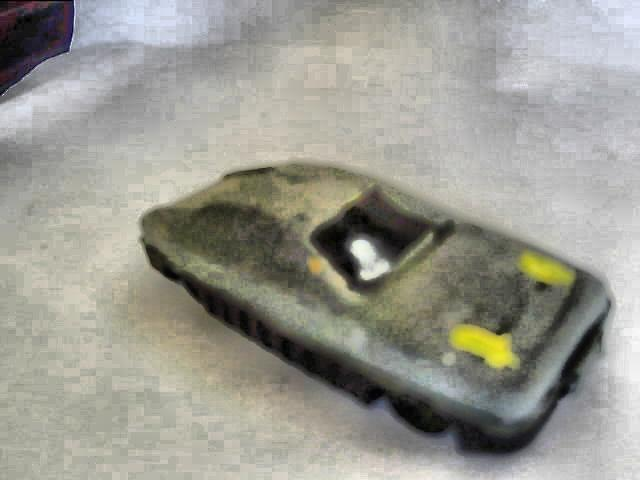normal_car: (136, 157, 613, 459)
